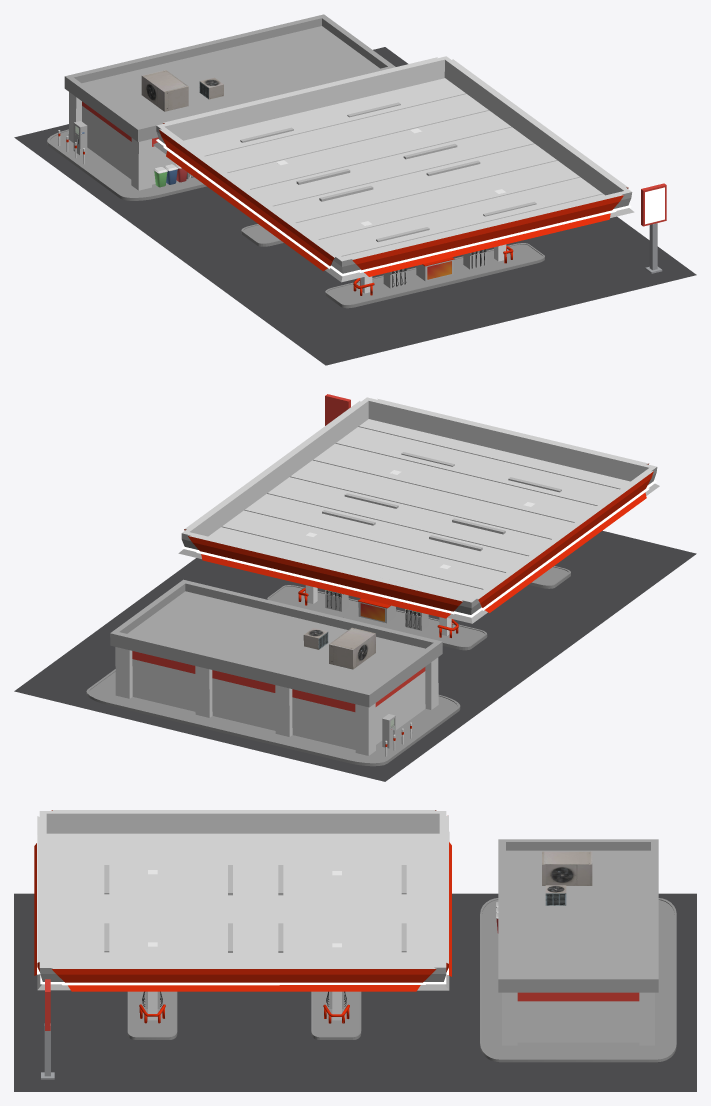
The model's file is tankstelle_lod2.glb.
3 renders of one model, top to bottom at view 1: azimuth 30°, elevation 25°; view 2: azimuth 150°, elevation 25°; view 3: azimuth 270°, elevation 25°, orthographic. The views are drawn at different scales.
Visible parts, largest first — view 1: Dach, Boden, Shop_Huelle, Inseln, Dachleuchten, Zubehoer, Preistafel_Mast, Aufsteller, preistafel_flaeche; view 2: Dach, Shop_Huelle, Boden, Inseln, Dachleuchten, Aufsteller; view 3: Dach, Boden, Shop_Huelle, Inseln, Dachleuchten, Dachstuetzen, Preistafel_Mast, Poller.
Boxes of the visible parts, x1=… form: Dach: x1=153, y1=56, x2=634, y2=282; Boden: x1=14, y1=47, x2=696, y2=365; Shop_Huelle: x1=64, y1=14, x2=395, y2=190; Inseln: x1=47, y1=129, x2=544, y2=308; Dachleuchten: x1=240, y1=102, x2=536, y2=242; Zubehoer: x1=73, y1=121, x2=193, y2=187; Preistafel_Mast: x1=641, y1=183, x2=666, y2=273; Aufsteller: x1=416, y1=257, x2=454, y2=281; preistafel_flaeche: x1=645, y1=187, x2=664, y2=224; Dach: x1=178, y1=397, x2=659, y2=623; Shop_Huelle: x1=110, y1=579, x2=442, y2=755; Boden: x1=14, y1=530, x2=696, y2=781; Inseln: x1=86, y1=566, x2=570, y2=766; Dachleuchten: x1=322, y1=452, x2=561, y2=551; Aufsteller: x1=358, y1=598, x2=395, y2=623; Dach: x1=34, y1=810, x2=451, y2=991; Boden: x1=14, y1=893, x2=696, y2=1091; Shop_Huelle: x1=498, y1=839, x2=658, y2=1045; Inseln: x1=127, y1=898, x2=676, y2=1062; Dachleuchten: x1=104, y1=865, x2=406, y2=952; Dachstuetzen: x1=148, y1=870, x2=341, y2=1020; Preistafel_Mast: x1=41, y1=979, x2=54, y2=1079; Poller: x1=139, y1=1004, x2=349, y2=1023.
Bounding box in the file's own units: 27.75 × 6.39 × 40.37.
39 materials, 10 textured.
